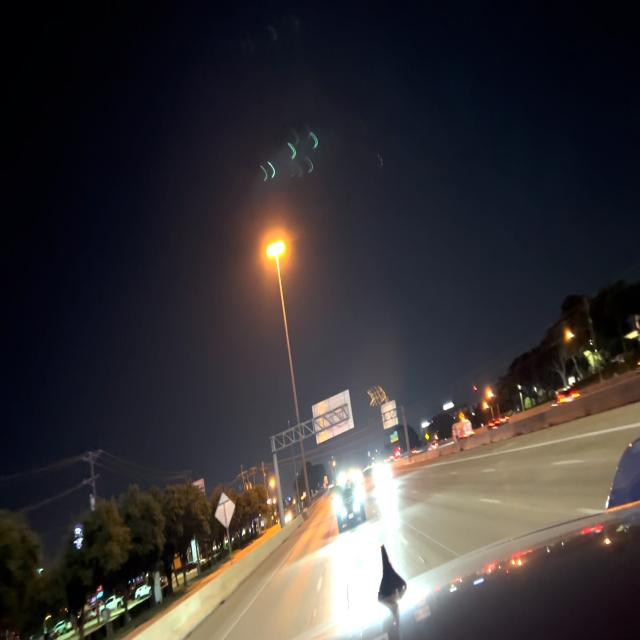back-of-sign: (311, 389, 355, 446), (216, 494, 235, 531), (382, 402, 397, 430)
